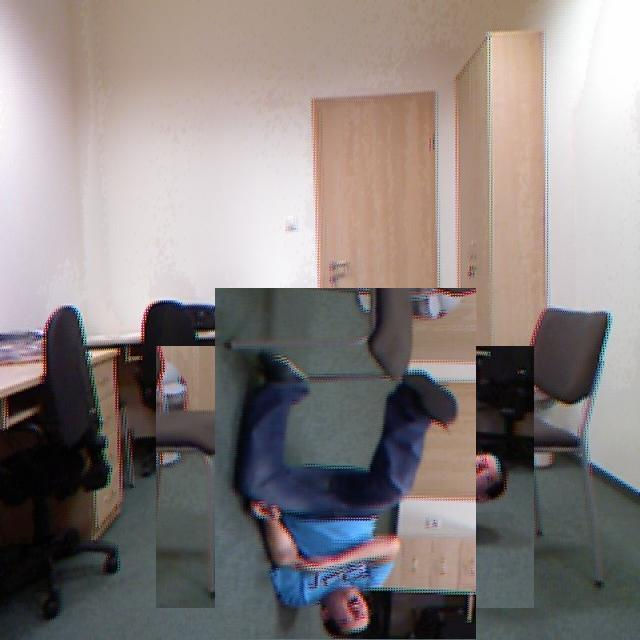Fall: (205, 386, 464, 640)
